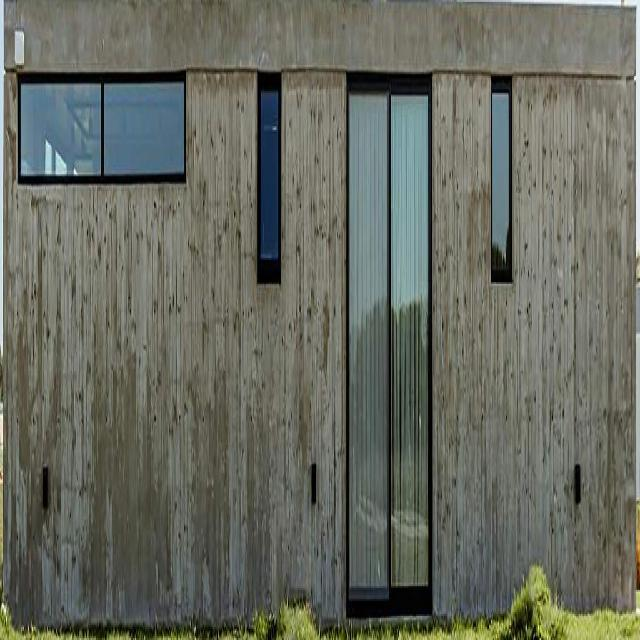door: (346, 73, 432, 631)
window: (19, 65, 186, 171), (489, 75, 511, 283), (259, 77, 280, 281)
